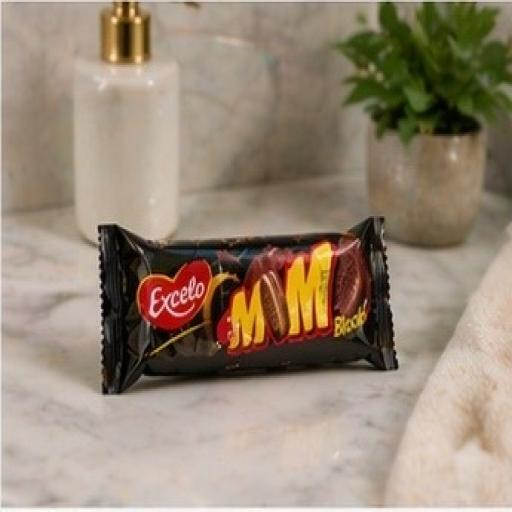MOMO: (58, 169, 427, 443)
